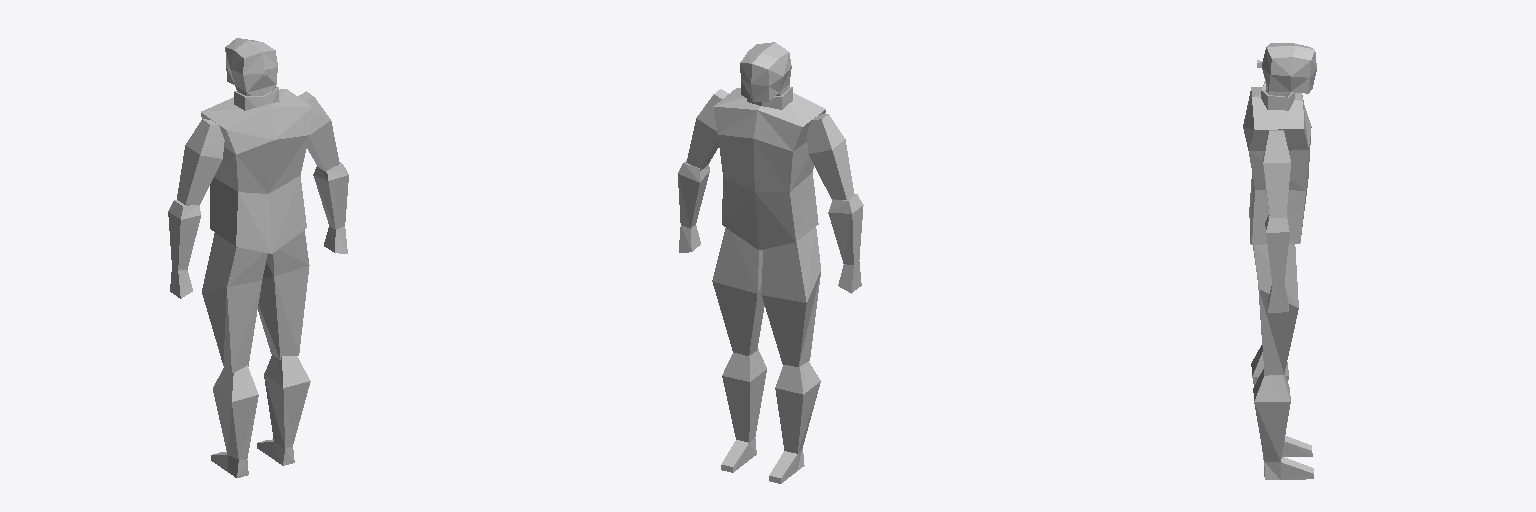
Rendered from LP_Humaniod.obj.
3 views of the same model, side by side, from view 1: azimuth 30°, elevation 25°; view 2: azimuth 150°, elevation 25°; view 3: azimuth 270°, elevation 25° (orthographic).
Parts seen in each view (by area): view 1: Cube; view 2: Cube; view 3: Cube.
Part boxes in pixels (x1,y1,x2,y2): Cube: (168, 38, 348, 477); Cube: (678, 42, 863, 483); Cube: (1243, 43, 1316, 479).
Bounding box in the file's own units: 3.02 × 7.01 × 1.13.